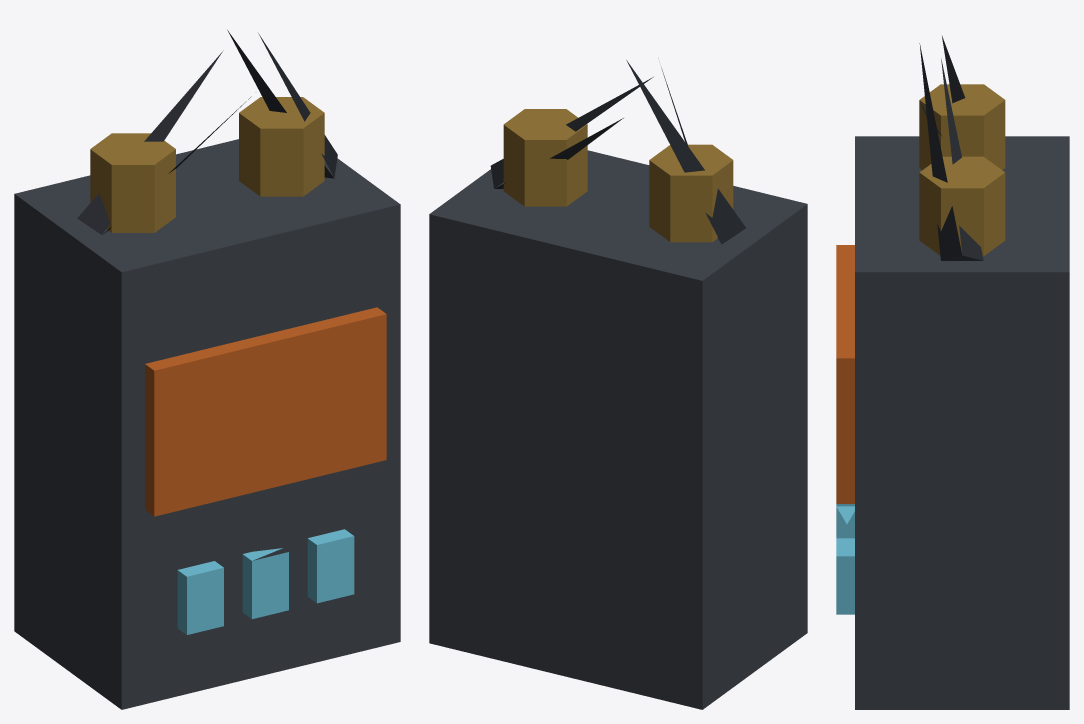
The model's file is emergency-battery.lod.glb.
3 renders of one model, left to right at view 1: azimuth 30°, elevation 25°; view 2: azimuth 150°, elevation 25°; view 3: azimuth 270°, elevation 25°, orthographic. The views are drawn at different scales.
Parts seen in each view (by area): view 1: m; view 2: m; view 3: m.
Part boxes in pixels (left/top/right/bottom): m: left=14, top=30, right=400, bottom=709; m: left=429, top=60, right=807, bottom=709; m: left=836, top=36, right=1069, bottom=709.
Bounding box in the file's own units: 0.0484 × 0.1018 × 0.0351.
